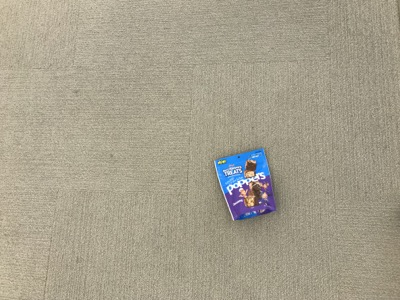rice krispies: (214, 149, 276, 221)
